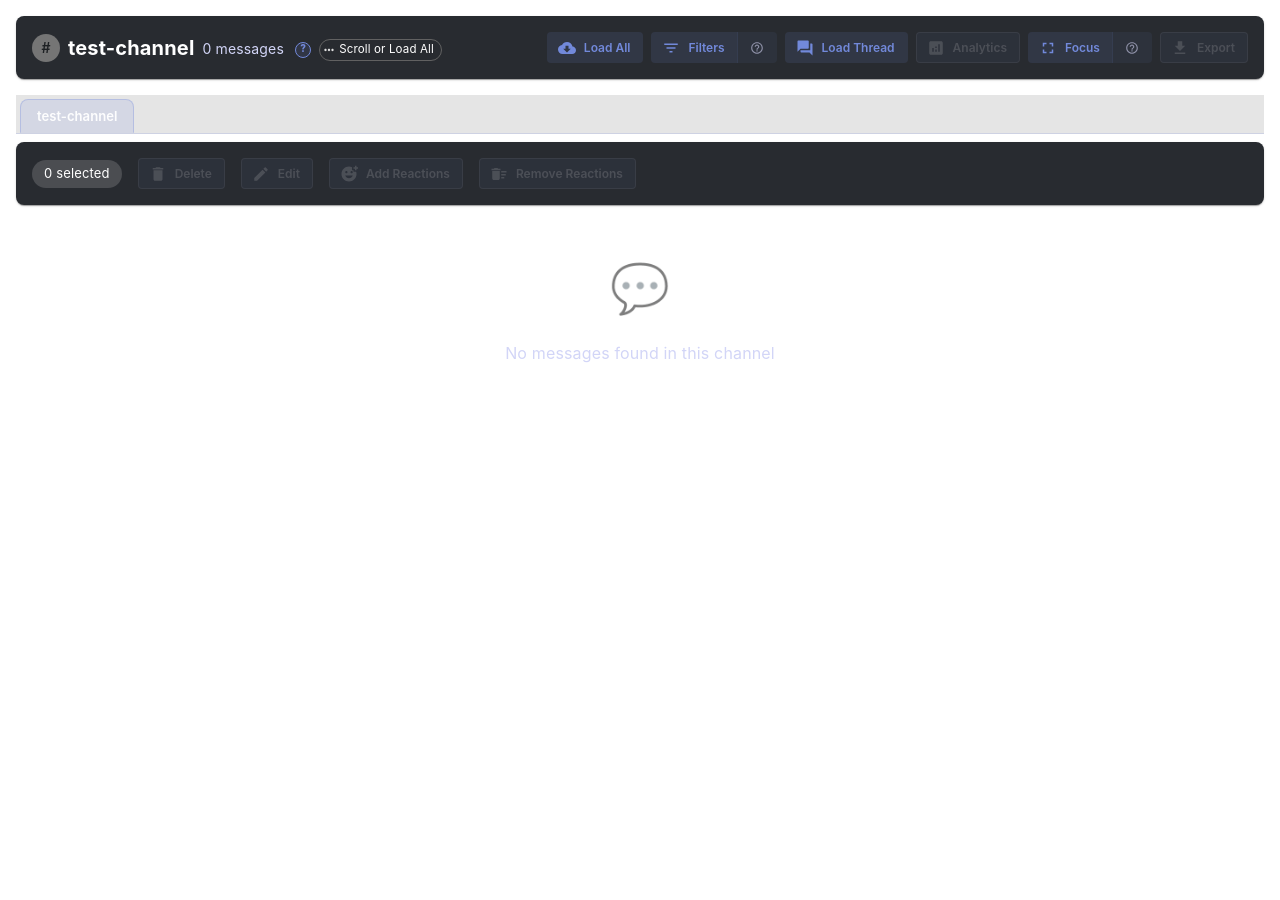
Test: ServerView › Deleted-account empty-search callout (#223) › shows the deleted-account explanation when an author search returns empty
Select the deleted user in the search-section From picker, then Search.
Click the button "Filters".
click(695, 48)  # box [652,32,738,63]
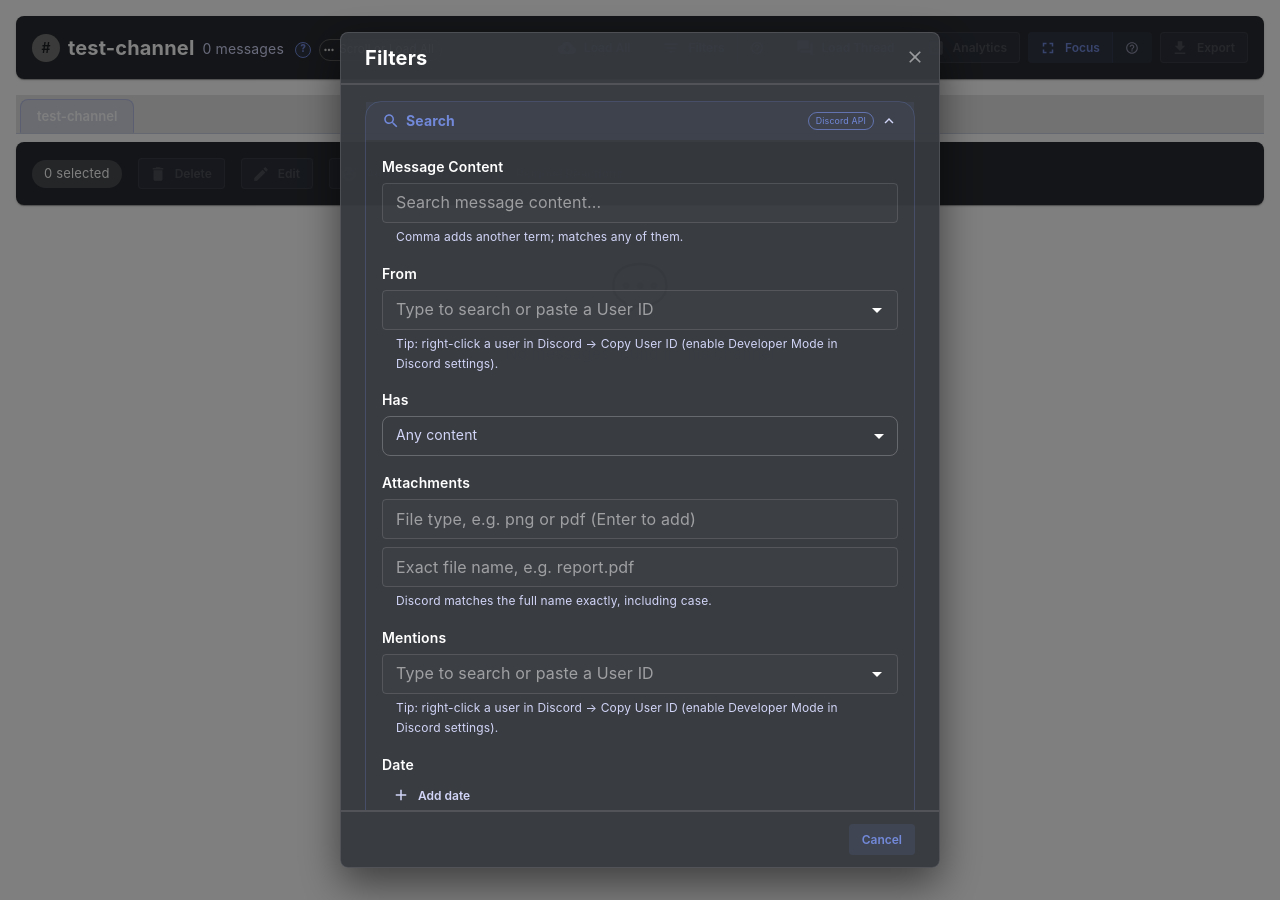
Type "deleted" into the dropdown with placeholder "Type to search or paste a User ID" below "From".
click(624, 310); type("deleted")  # box [388,296,859,324]
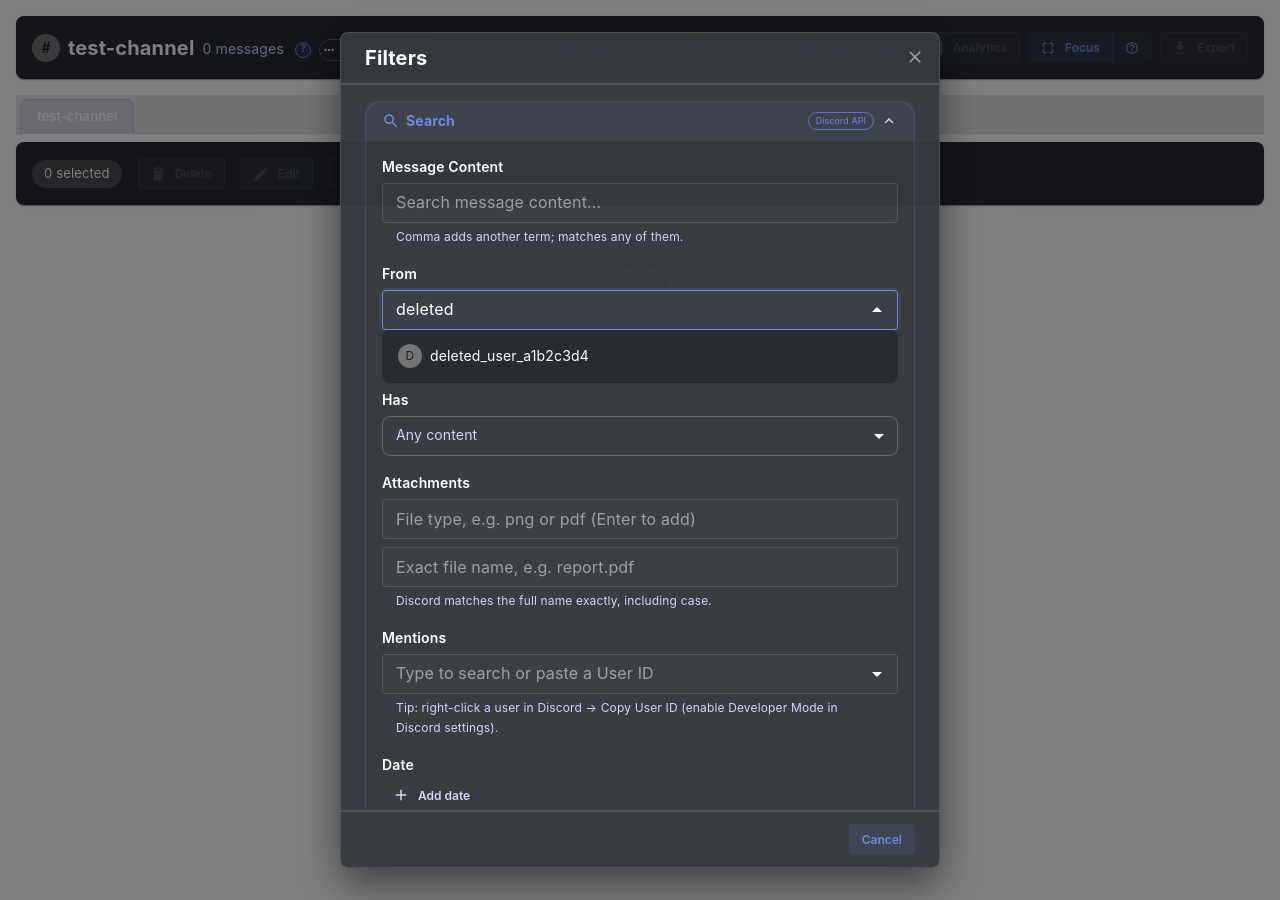
Click the text "deleted_user_a1b2c3d4".
click(509, 356)  # box [430,346,589,366]
(page scrolled)
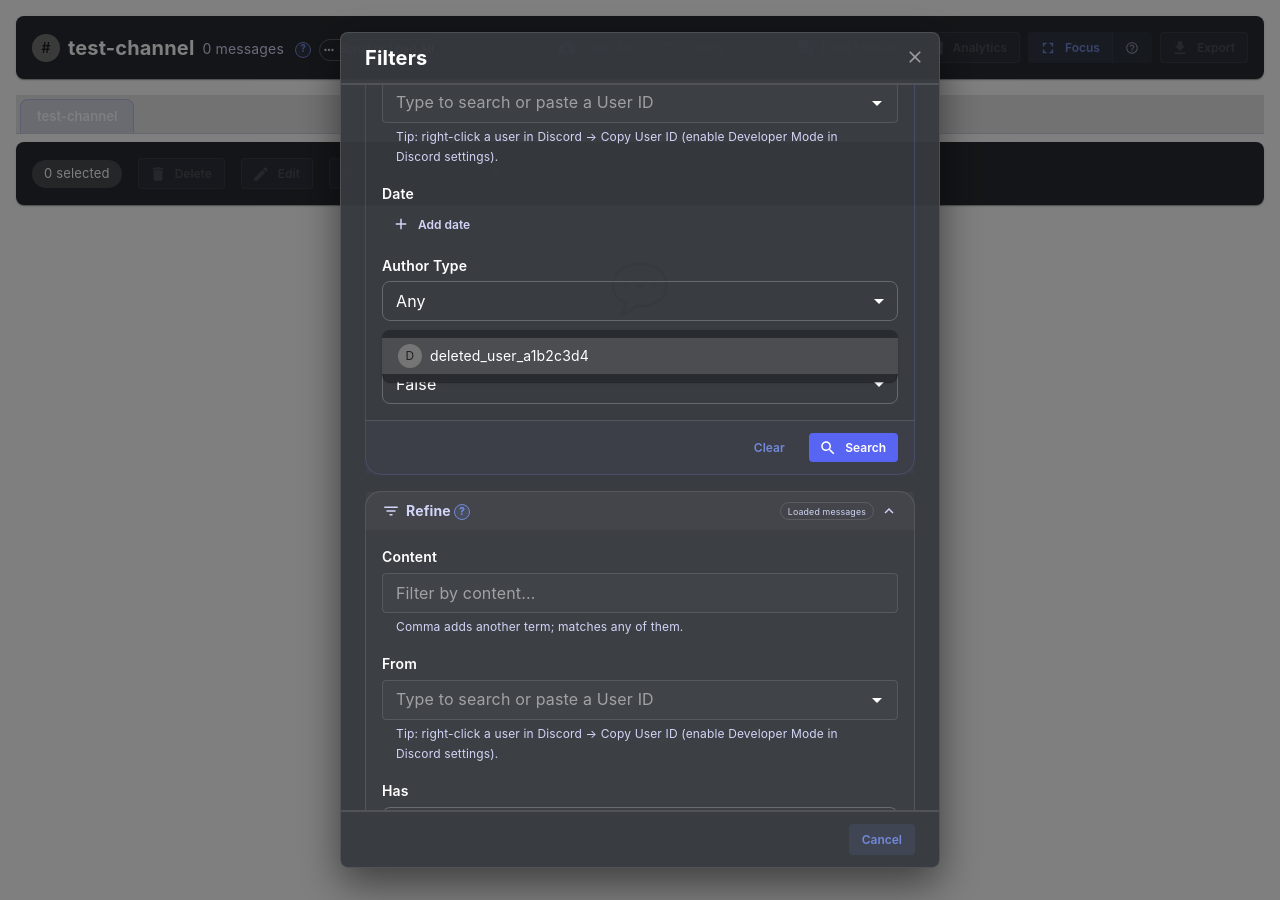
Click the button "Search".
click(854, 448)  # box [809,433,898,462]
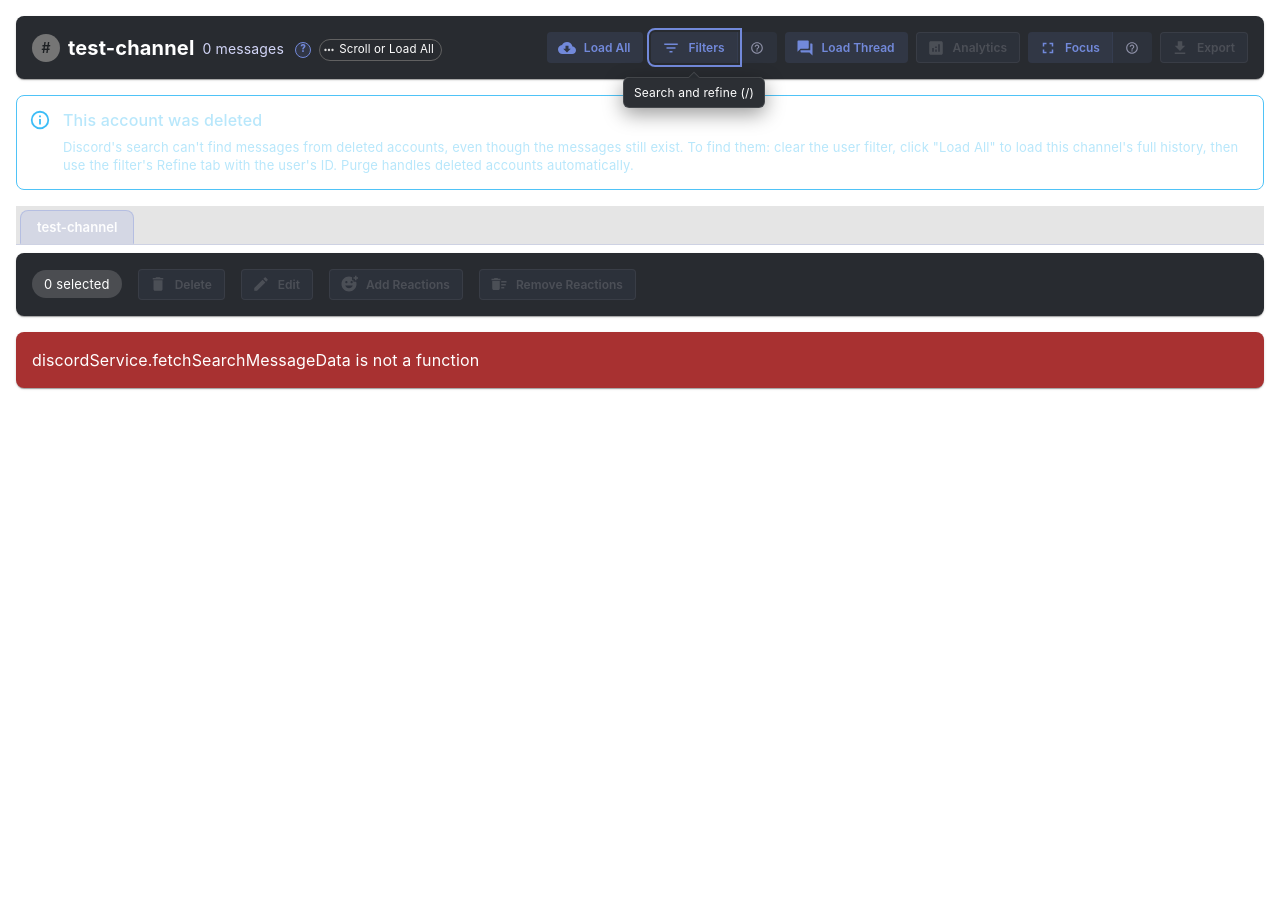
Now the text "This account was deleted" is shown, box [63,110,262,130]
Now the text "Purge handles deleted accounts automatically" is shown, box [337,157,634,173]
